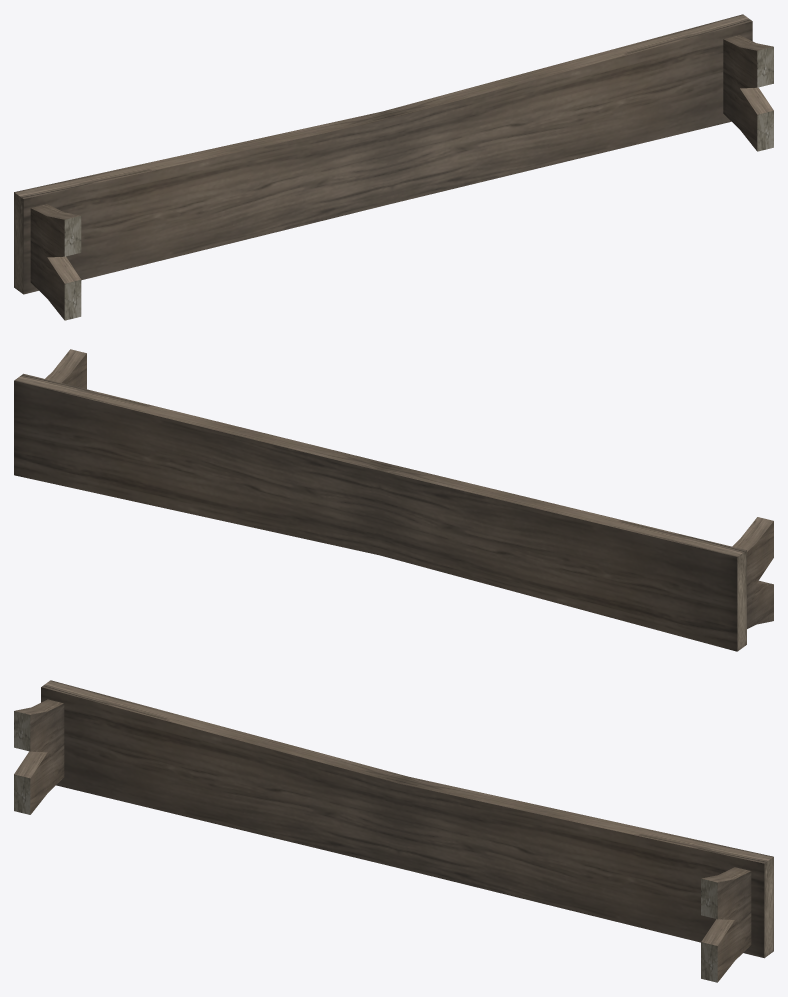
File: Bench_A.fbx
3 views of the same model, one above another, from view 1: azimuth 30°, elevation 25°; view 2: azimuth 150°, elevation 25°; view 3: azimuth 330°, elevation 25° (orthographic).
Visible parts, largest first — view 1: Bench_A; view 2: Bench_A; view 3: Bench_A.
Boxes of the visible parts, x1,y1,x2,y2 form: Bench_A: (14,14,773,320); Bench_A: (14,349,773,651); Bench_A: (14,680,773,982).
Size of the model in its own units: 4.69 by 0.6207 by 0.4884.
